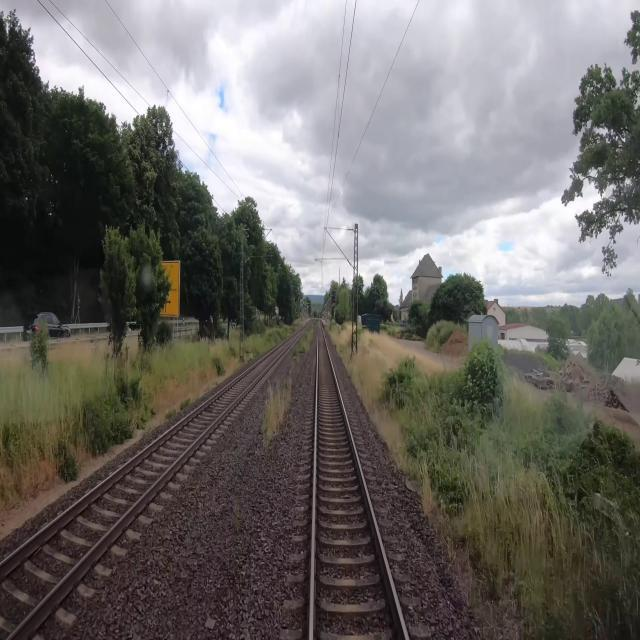Plant: (258, 370, 302, 447), (292, 320, 315, 367), (227, 497, 251, 533)
